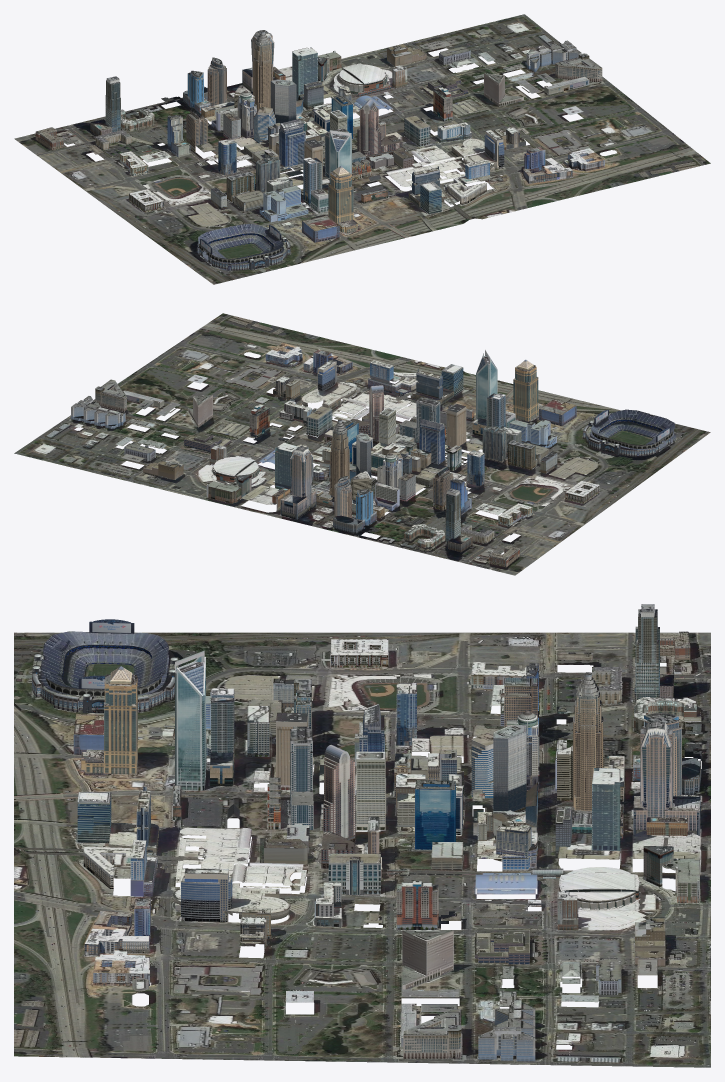
Rendered from city_a.glb.
The picture shows the model from 3 angles, top to bottom: view 1: azimuth 30°, elevation 25°; view 2: azimuth 150°, elevation 25°; view 3: azimuth 270°, elevation 25°; orthographic projection. The views are drawn at different scales.
Visible parts, largest first — view 1: Material3 (×30), Material2 (×9); view 2: Material3 (×33), Material2 (×8); view 3: Material3 (×34), Material2 (×8).
Part boxes in pixels (x1=…): Material3 (×30): x1=14, y1=30, x2=710, y2=284; Material2 (×9): x1=66, y1=14, x2=641, y2=270; Material3 (×33): x1=71, y1=313, x2=710, y2=575; Material2 (×8): x1=14, y1=350, x2=674, y2=552; Material3 (×34): x1=14, y1=604, x2=710, y2=1061; Material2 (×8): x1=32, y1=605, x2=710, y2=1067.
Size of what is drawn, in the model's own units: 69101 by 10571 by 46783.
99 materials, 99 textured.
